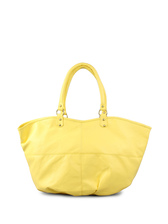bag: (9, 63, 154, 196)
